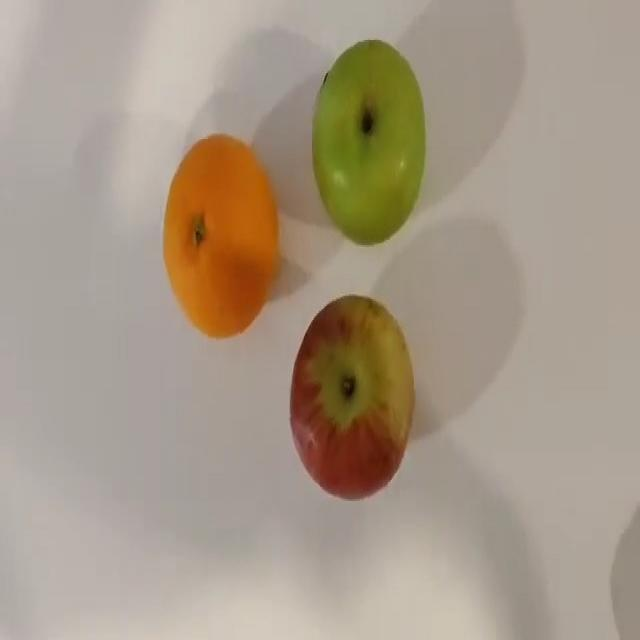Apple: (288, 294, 415, 501), (311, 38, 426, 245)
Orange: (162, 132, 280, 339)
